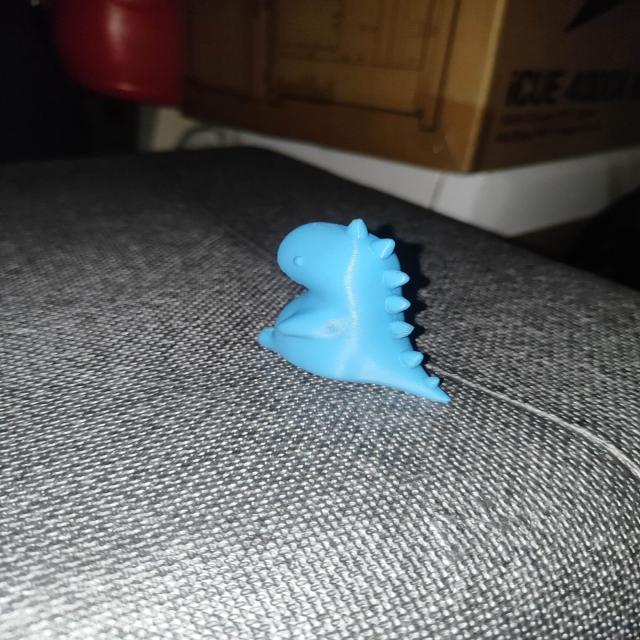DINO: (242, 210, 477, 412)
